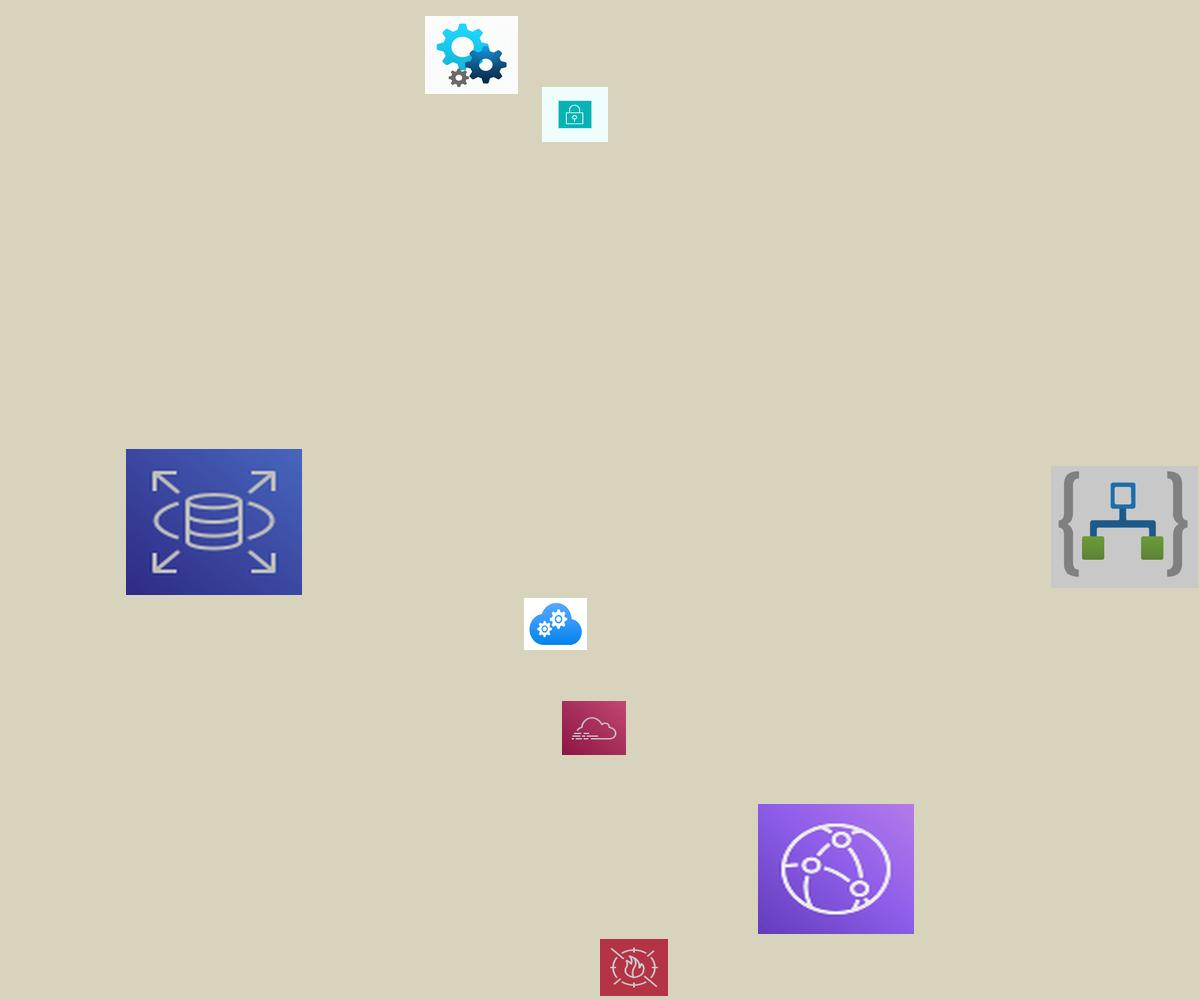AWS-CloudFront: (758, 804, 914, 934)
AWS-CloudTrail: (562, 701, 626, 755)
AWS-Private-subnet: (542, 87, 608, 142)
AWS-RDS: (126, 449, 302, 595)
AWS-WAF: (600, 939, 668, 996)
Azure_api: (425, 16, 518, 94)
Azure_cloud_services: (524, 598, 587, 650)
Azure_integration-204-Logic-Apps: (1051, 466, 1198, 588)
